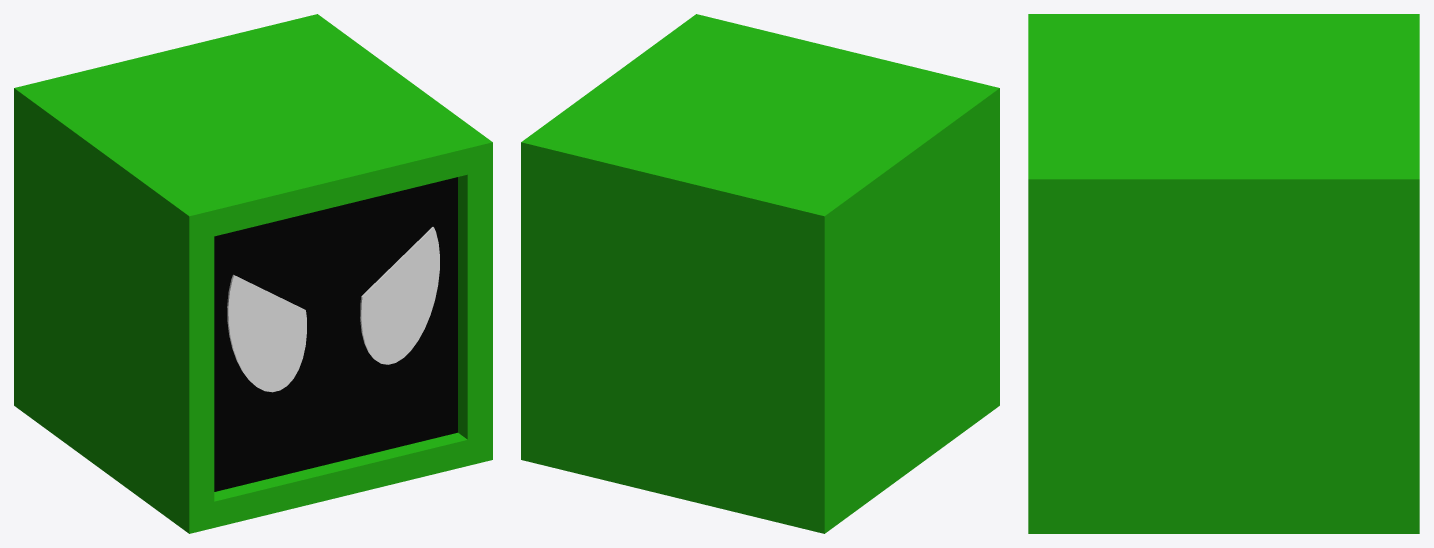
The model's file is enemy-head.fbx.
3 views of the same model, side by side, from view 1: azimuth 30°, elevation 25°; view 2: azimuth 150°, elevation 25°; view 3: azimuth 270°, elevation 25° (orthographic). The views are drawn at different scales.
Parts seen in each view (by area): view 1: Cube, Circle.001, Circle; view 2: Cube; view 3: Cube.
Part boxes in pixels (box(x1,y1,x2,y2)): Cube: box(14, 14, 492, 533); Circle.001: box(360, 227, 439, 364); Circle: box(227, 274, 306, 392); Cube: box(521, 14, 999, 533); Cube: box(1028, 14, 1419, 533).
Size of the model in its own units: 200 by 200 by 200.
